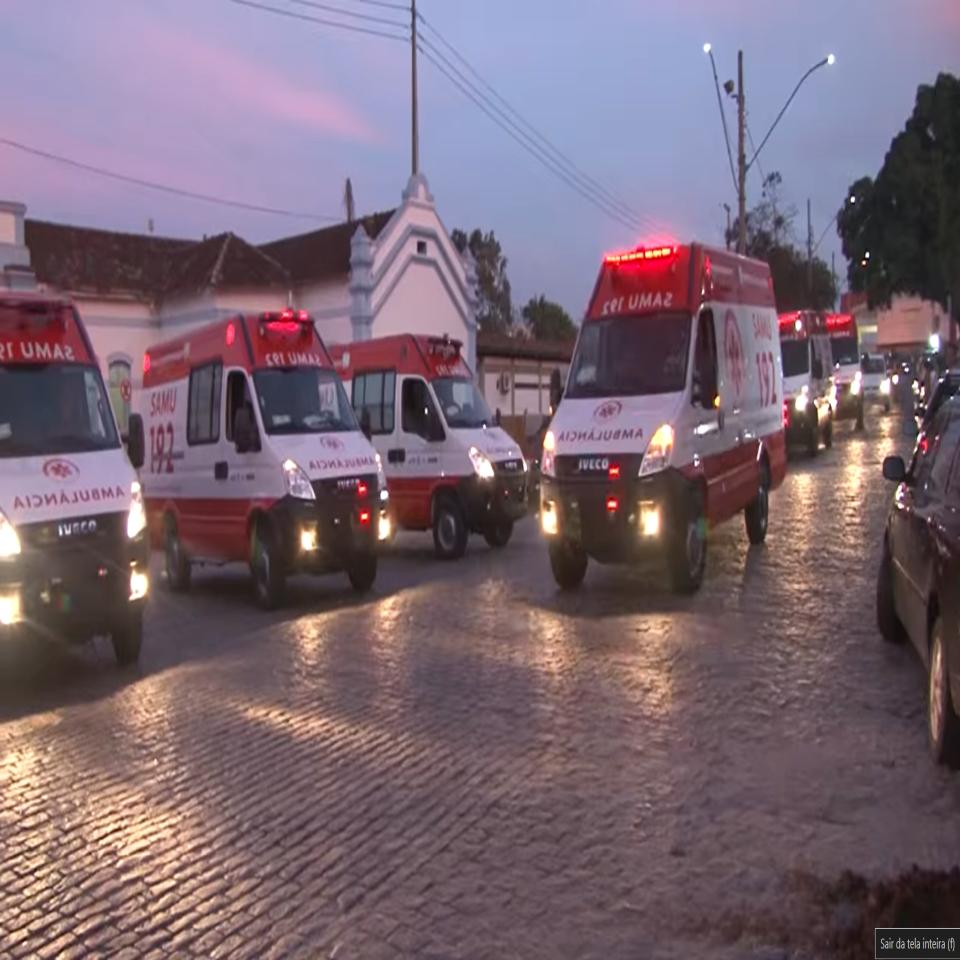bombeiro: (540, 234, 788, 597), (139, 304, 393, 614), (0, 288, 155, 668), (324, 326, 530, 556), (778, 308, 838, 458), (826, 312, 866, 432)
